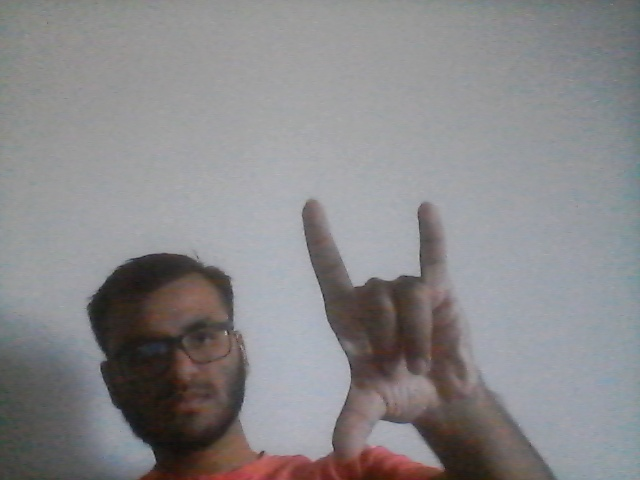I Love You: (294, 194, 491, 463)
